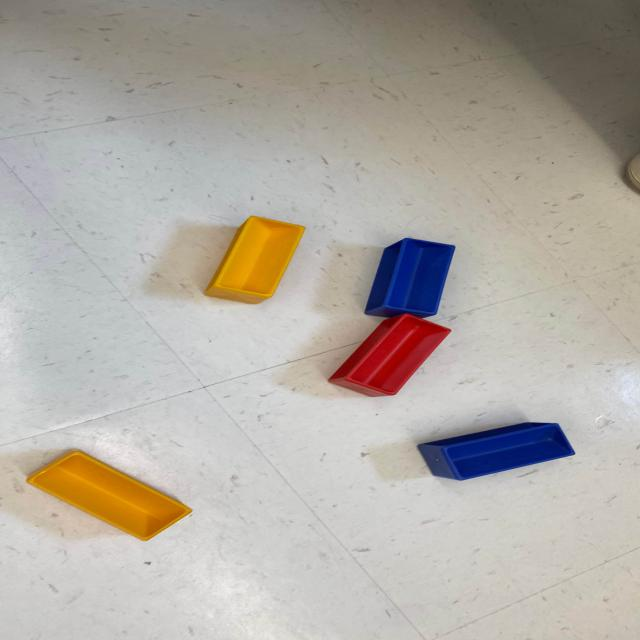blue-specimen: (415, 420, 578, 482), (363, 234, 460, 320)
red-specimen: (323, 312, 455, 400)
yellow-specimen: (20, 447, 196, 542), (199, 214, 311, 306)
